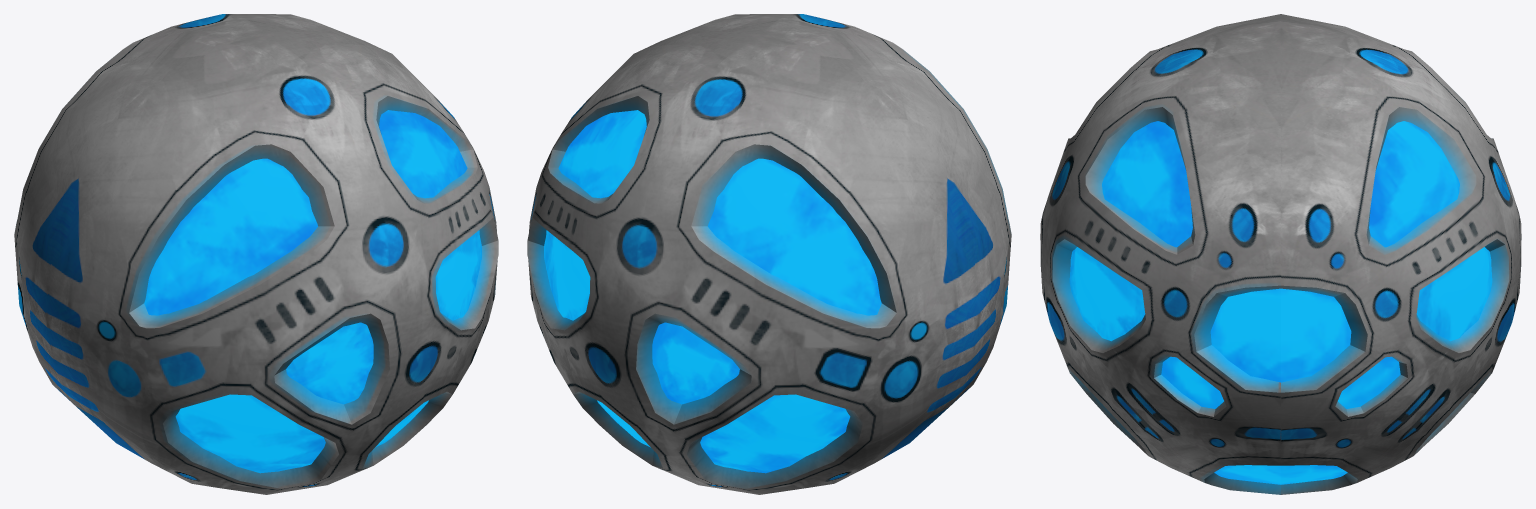
Rendered from hamster_ball.fbx.
3 views of the same model, side by side, from view 1: azimuth 30°, elevation 25°; view 2: azimuth 150°, elevation 25°; view 3: azimuth 270°, elevation 25° (orthographic).
Parts seen in each view (by area): view 1: hamster_ball, hamster_ball_export_hamster_ball_lights; view 2: hamster_ball, hamster_ball_export_hamster_ball_lights; view 3: hamster_ball, hamster_ball_export_hamster_ball_lights.
Boxes of the visible parts, x1,y1,x2,y2 form: hamster_ball: (14, 14, 498, 494); hamster_ball_export_hamster_ball_lights: (144, 110, 481, 473); hamster_ball: (527, 14, 1011, 494); hamster_ball_export_hamster_ball_lights: (544, 110, 881, 473); hamster_ball: (1040, 14, 1521, 494); hamster_ball_export_hamster_ball_lights: (1069, 121, 1492, 484).
Size of the model in its own units: 0.0197 by 0.0194 by 0.0198.
